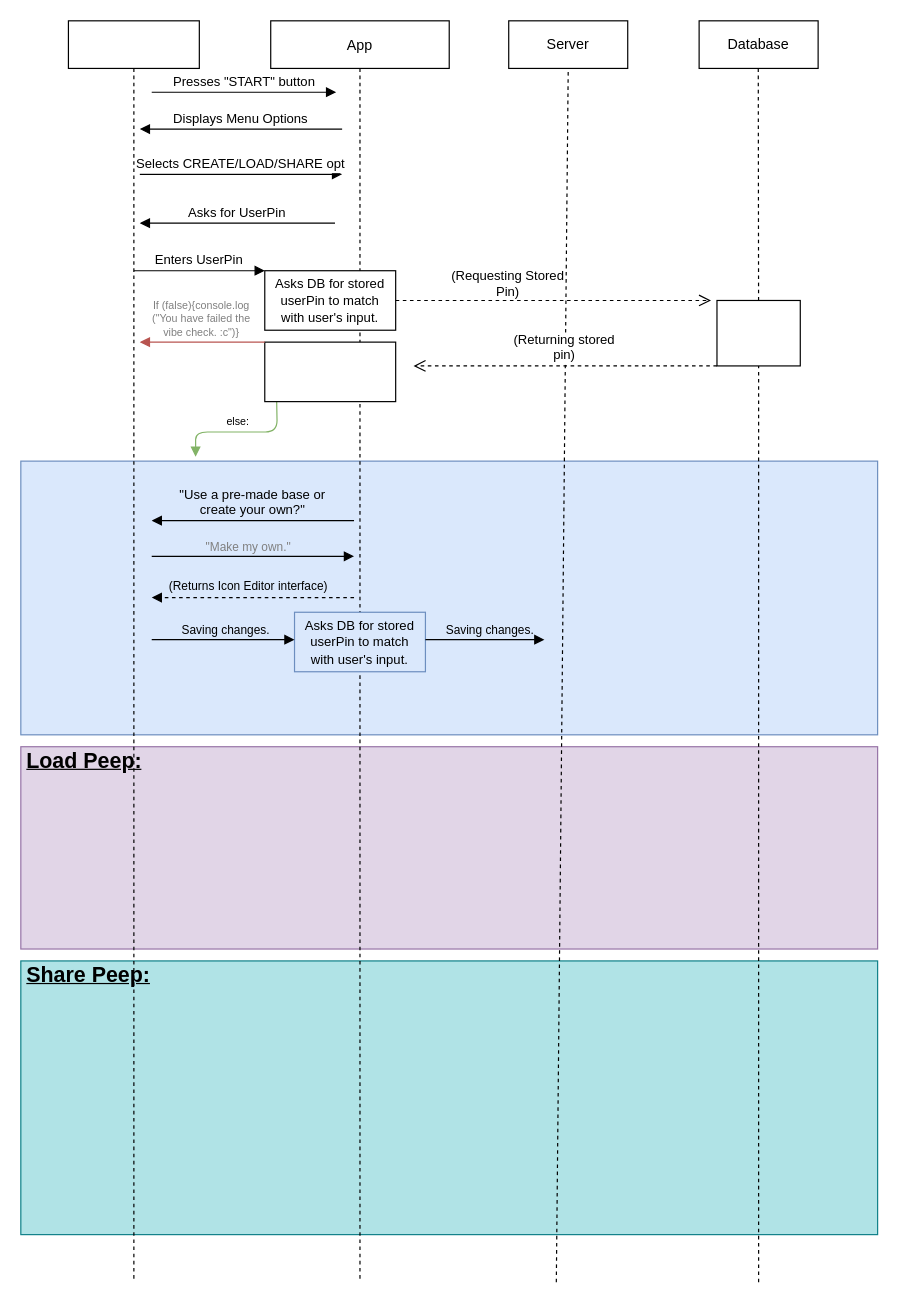
Some shapes in this 898 by 1304 pixel diagram are drawn without their labels. Here are the shapes that lost their labels. From the top down, the box of each, then its label:
(716, 299, 800, 366): UserPin Column
(264, 341, 396, 402): Comparing pins.
(20, 460, 878, 735): Peep Creation:
(67, 20, 199, 1282): User
